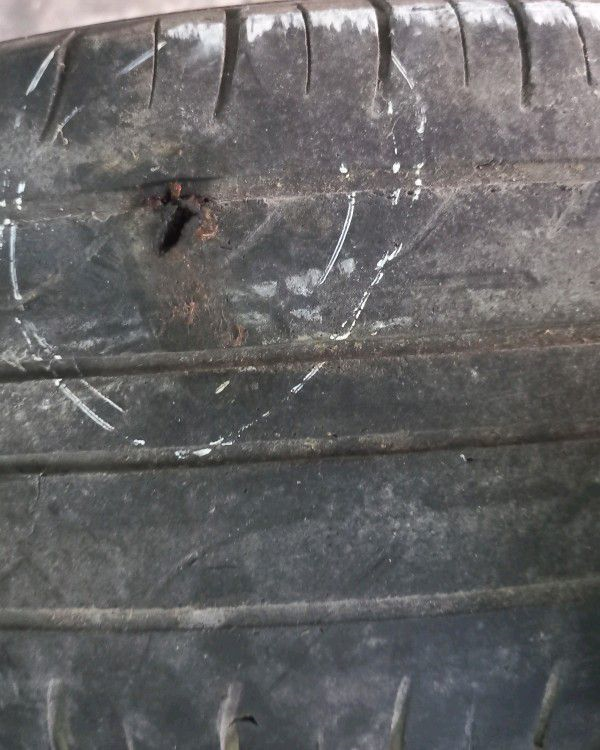tr: (153, 184, 219, 263)
